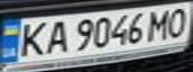0: (90, 14, 115, 50)
4: (112, 11, 133, 47)
6: (127, 10, 151, 44)
9: (69, 16, 97, 52)
A: (39, 18, 72, 55)
K: (12, 19, 51, 58)
M: (145, 7, 175, 40)
O: (163, 4, 193, 38)
